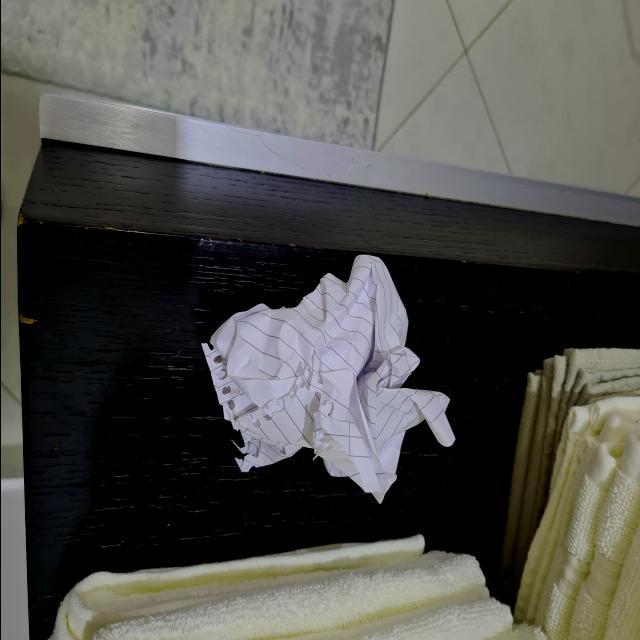Paper: (188, 259, 464, 516)
